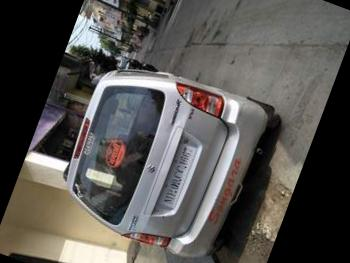plate: (152, 130, 212, 223)
